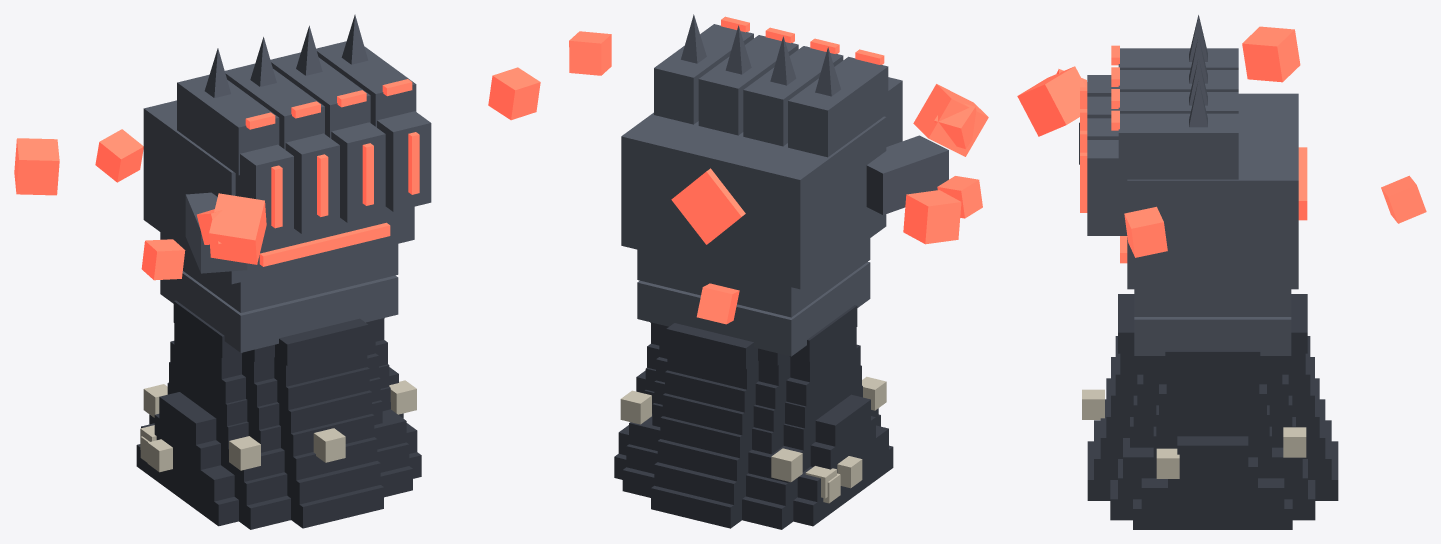
The picture shows the model from 3 angles, left to right: view 1: azimuth 30°, elevation 25°; view 2: azimuth 150°, elevation 25°; view 3: azimuth 270°, elevation 25°; orthographic projection. The views are drawn at different scales.
Visible parts, largest first — view 1: R059_Main, R059_Accent, R059_Aura_Rocks, R059_Glow, R059_Trim; view 2: R059_Main, R059_Accent, R059_Aura_Rocks, R059_Glow, R059_Trim; view 3: R059_Main, R059_Accent, R059_Aura_Rocks, R059_Glow, R059_Trim.
Part boxes in pixels (box(x1,y1,x2,y2)): R059_Main: box(143, 14, 431, 352); R059_Accent: box(136, 300, 421, 529); R059_Aura_Rocks: box(14, 67, 540, 280); R059_Glow: box(245, 79, 419, 266); R059_Trim: box(140, 380, 416, 472); R059_Main: box(621, 14, 948, 356); R059_Accent: box(614, 305, 893, 529); R059_Aura_Rocks: box(569, 31, 988, 324); R059_Glow: box(671, 16, 884, 244); R059_Trim: box(620, 376, 886, 503); R059_Main: box(1079, 15, 1298, 355); R059_Accent: box(1087, 294, 1338, 529); R059_Aura_Rocks: box(1017, 26, 1426, 257); R059_Glow: box(1080, 45, 1307, 263); R059_Trim: box(1082, 389, 1306, 478).
Size of the model in its own units: 1.8 by 1.68 by 1.43.
